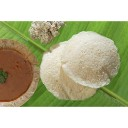idly: (40, 43, 98, 99), (64, 31, 121, 86)
